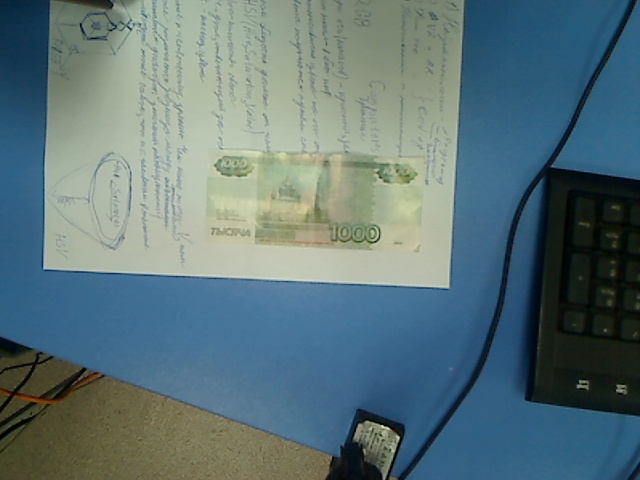banknotes: (202, 147, 426, 256)
